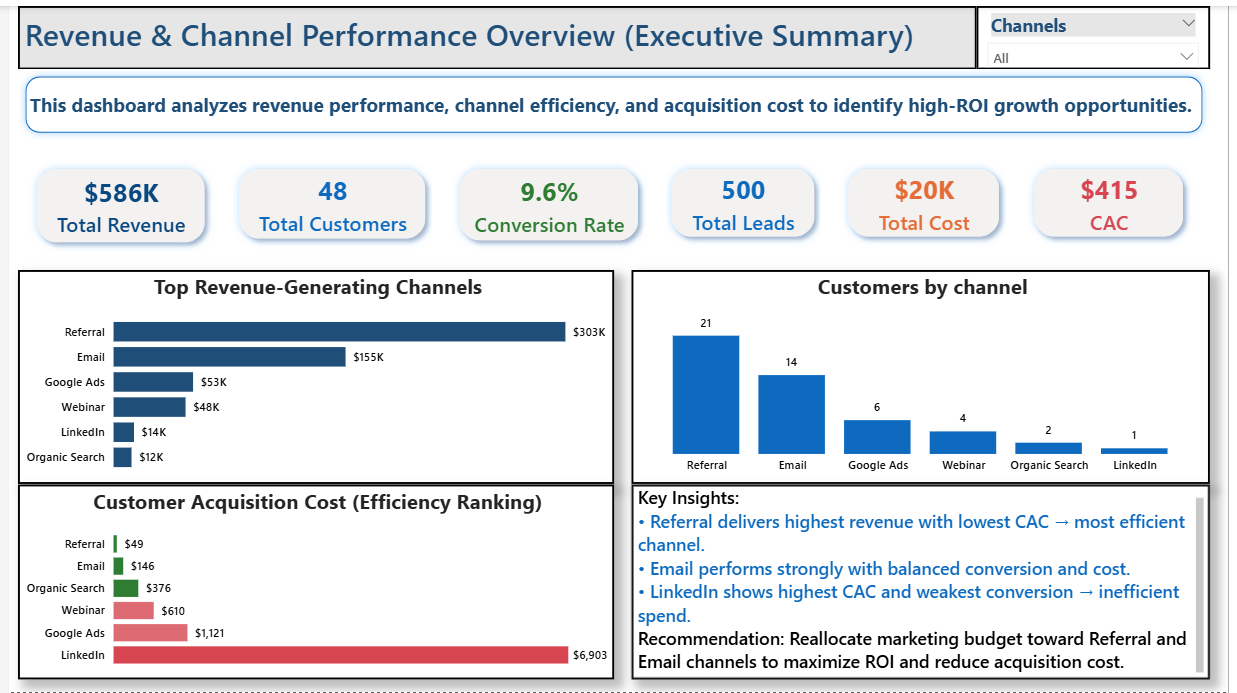

This screenshot's page, from the dashboard's own definition file:
{"tool":"powerbi","page":{"name":"Page 1","canvas":[1280,720],"ordinal":0},"visuals":[{"type":"cardVisual","fields":{"Data":["lead_stage_events.Total Leads"]},"box":[666.3,141.8,208.6,129.6],"z":0},{"type":"textbox","box":[10.1,0,1006.6,66.8],"z":1000},{"type":"cardVisual","fields":{"Data":["lead_stage_events.Total Customers"]},"box":[212.7,141.8,253.2,131.6],"z":2000},{"type":"cardVisual","fields":{"Data":["lead_stage_events.Conversion Rate"]},"box":[443.5,141.8,245.1,133.7],"z":3000},{"type":"cardVisual","fields":{"Data":["lead_stage_events.Total Revenue"]},"box":[0,141.8,234.9,135.7],"z":4000},{"type":"cardVisual","fields":{"Data":["lead_stage_events.Total Cost"]},"box":[852.7,141.8,216.7,129.6],"z":5000},{"type":"cardVisual","fields":{"Data":["lead_stage_events.CAC"]},"box":[1047.1,141.8,214.7,129.6],"z":6000},{"type":"clusteredBarChart","title":"Top Revenue-Generating Channels","fields":{"Category":["leads.channel"],"Y":["lead_stage_events.Total Revenue"]},"box":[10.1,277.5,625.8,224.8],"z":7000},{"type":"clusteredColumnChart","title":"Customers by channel","fields":{"Category":["leads.channel"],"Y":["lead_stage_events.Total Customers"]},"box":[654.2,277.5,607.6,224.8],"z":8000},{"type":"clusteredBarChart","title":"Customer Acquisition Cost (Efficiency Ranking)","fields":{"Category":["leads.channel"],"Y":["lead_stage_events.CAC"]},"box":[10.1,502.3,625.8,204.6],"z":9000},{"type":"textbox","box":[654.2,502.3,607.6,204.6],"z":10000},{"type":"slicer","fields":{"Values":["leads.channel"]},"box":[1016.7,0,245.1,66.8],"z":13000},{"type":"shape","box":[10.1,66.8,1251.6,74.9],"z":14001}]}

Visuals, with their boxes in screenshot pixels (x1, y1, x2, y2), scaled from the page's 1280x720 canvas onto the 1237x693 screenshot:
cardVisual - lead_stage_events.Total Leads: region(644, 136, 846, 261)
textbox: region(10, 0, 983, 64)
cardVisual - lead_stage_events.Total Customers: region(206, 136, 450, 263)
cardVisual - lead_stage_events.Conversion Rate: region(429, 136, 665, 265)
cardVisual - lead_stage_events.Total Revenue: region(0, 136, 227, 267)
cardVisual - lead_stage_events.Total Cost: region(824, 136, 1033, 261)
cardVisual - lead_stage_events.CAC: region(1012, 136, 1219, 261)
"Top Revenue-Generating Channels" clusteredBarChart: region(10, 267, 615, 483)
"Customers by channel" clusteredColumnChart: region(632, 267, 1219, 483)
"Customer Acquisition Cost (Efficiency Ranking)" clusteredBarChart: region(10, 483, 615, 680)
textbox: region(632, 483, 1219, 680)
slicer - leads.channel: region(983, 0, 1219, 64)
shape: region(10, 64, 1219, 136)
